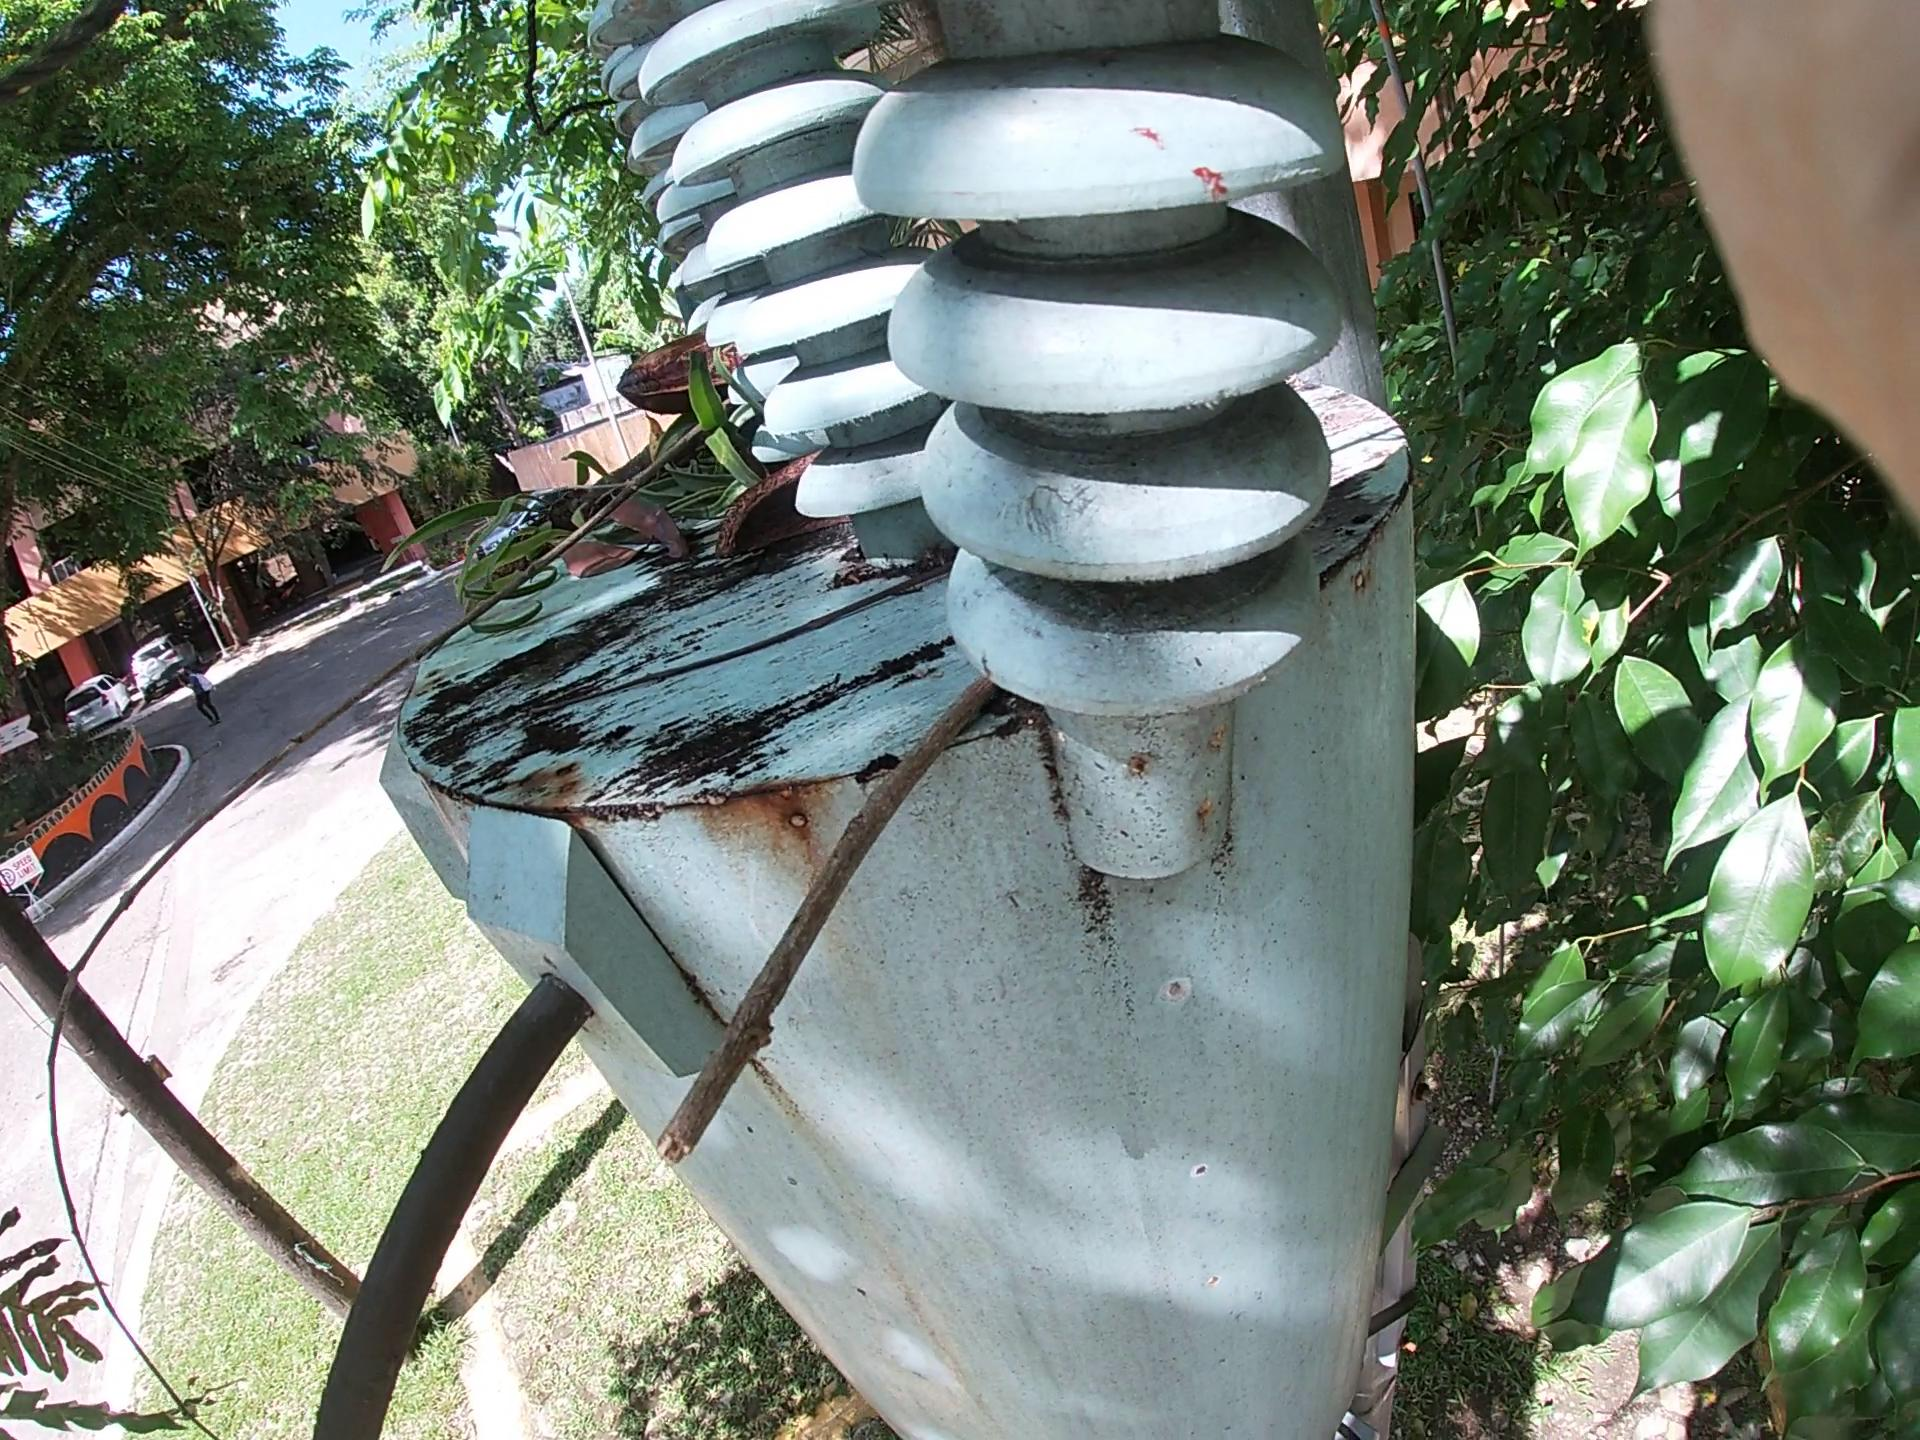branch with leaves: (438, 322, 800, 737)
leaf: (509, 466, 705, 617)
mahogany fruit: (680, 427, 892, 613), (559, 315, 785, 464)
tree branch: (50, 357, 777, 1023), (668, 649, 931, 1190)
